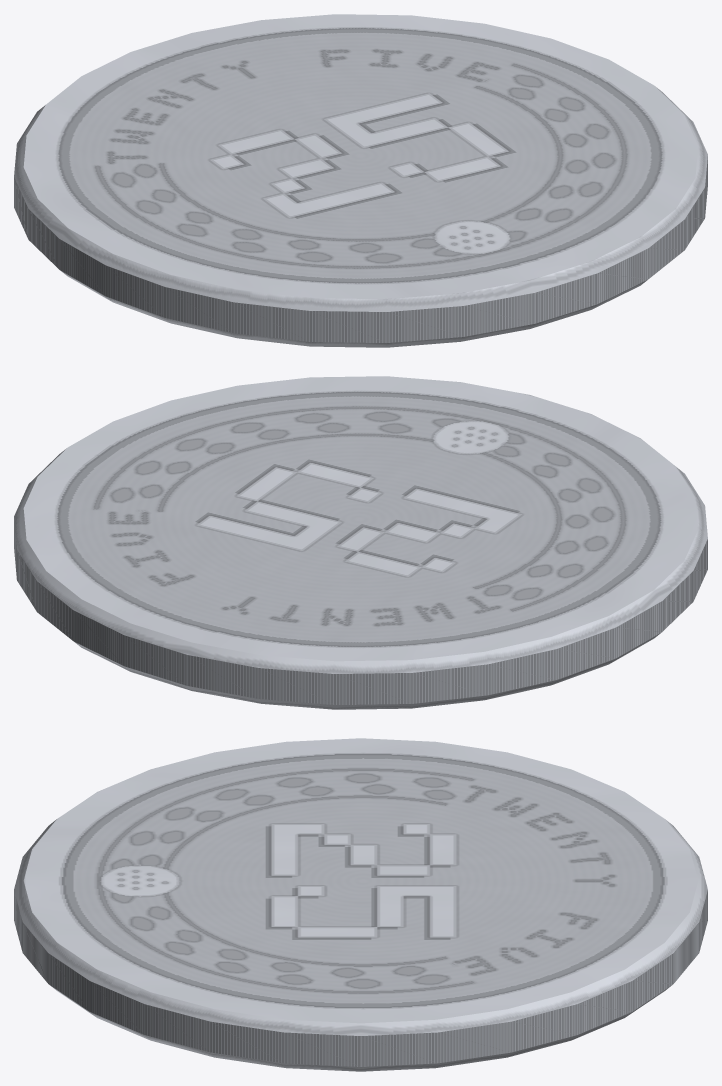
Rendered from cash_coin_25.glb.
The picture shows the model from 3 angles, top to bottom: view 1: azimuth 30°, elevation 25°; view 2: azimuth 150°, elevation 25°; view 3: azimuth 270°, elevation 25°; orthographic projection.
Parts seen in each view (by area): view 1: Coin_Body; view 2: Coin_Body; view 3: Coin_Body.
Boxes of the visible parts, x1,y1,x2,y2 form: Coin_Body: (14, 14, 707, 347); Coin_Body: (14, 376, 707, 709); Coin_Body: (14, 738, 707, 1071).
Bounding box in the file's own units: 0.026 × 0.002 × 0.026.
1 material, 1 textured.
